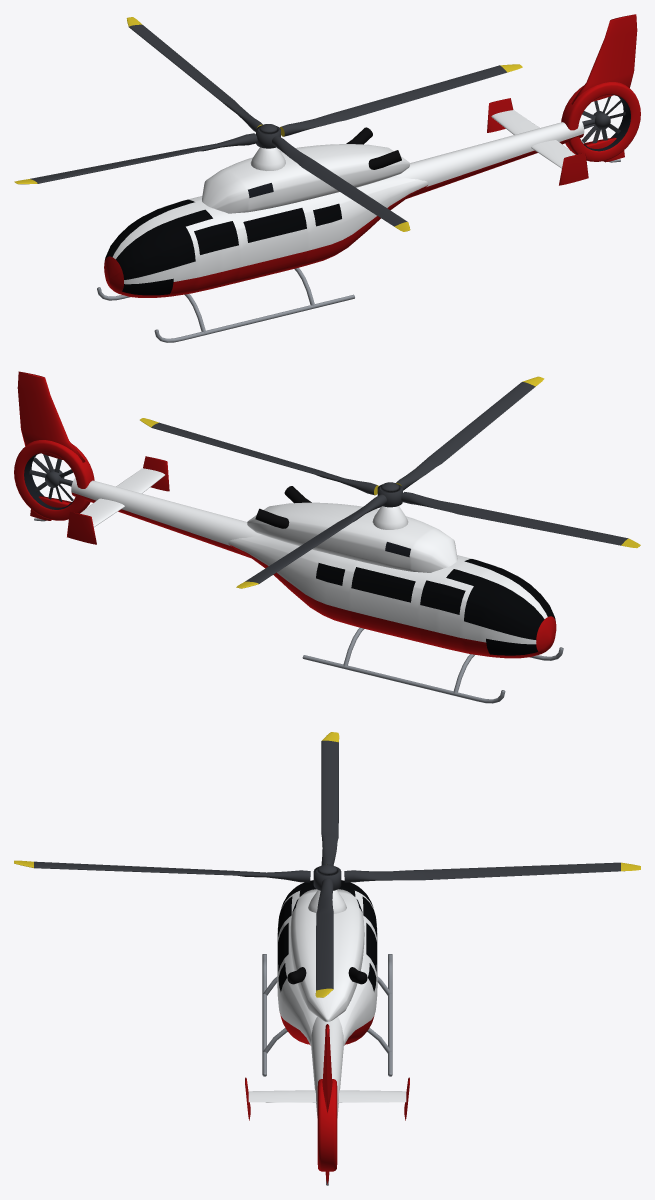
The model's file is helicopter_h145.light.glb.
3 views of the same model, one above another, from view 1: azimuth 30°, elevation 25°; view 2: azimuth 150°, elevation 25°; view 3: azimuth 270°, elevation 25° (orthographic). The views are drawn at different scales.
Parts seen in each view (by area): view 1: fuselage_pod__heli_white, fuselage_pod__glass, engine_cowling__heli_white, tail_boom__heli_white, fuselage_pod__heli_red, fin, fenestron_shroud__heli_red, main_blade_3__rotor_grey, main_blade_2__rotor_grey, main_blade_4__rotor_grey, main_blade_1__rotor_grey, horizontal_stabiliser (+6 smaller); view 2: fuselage_pod__heli_white, engine_cowling__heli_white, fuselage_pod__glass, tail_boom__heli_white, fuselage_pod__heli_red, fin, fenestron_shroud__heli_red, main_blade_1__rotor_grey, main_blade_2__rotor_grey, main_blade_3__rotor_grey, main_blade_4__rotor_grey, horizontal_stabiliser (+6 smaller); view 3: engine_cowling__heli_white, fuselage_pod__heli_white, main_blade_4__rotor_grey, main_blade_1__rotor_grey, fuselage_pod__glass, main_blade_2__rotor_grey, main_blade_3__rotor_grey, tail_boom__heli_white, fenestron_shroud__heli_red, horizontal_stabiliser.
Boxes of the visible parts, <box> form: fuselage_pod__heli_white: <box>113,176,428,284</box>; fuselage_pod__glass: <box>104,199,341,295</box>; engine_cowling__heli_white: <box>202,144,409,213</box>; tail_boom__heli_white: <box>395,119,584,186</box>; fuselage_pod__heli_red: <box>104,185,427,297</box>; fin: <box>570,14,637,104</box>; fenestron_shroud__heli_red: <box>561,82,640,161</box>; main_blade_3__rotor_grey: <box>281,65,506,136</box>; main_blade_2__rotor_grey: <box>272,136,407,226</box>; main_blade_4__rotor_grey: <box>129,24,262,131</box>; main_blade_1__rotor_grey: <box>30,133,257,183</box>; horizontal_stabiliser: <box>491,110,575,168</box>; fuselage_pod__heli_white: <box>228,535,547,644</box>; engine_cowling__heli_white: <box>247,502,457,572</box>; fuselage_pod__glass: <box>316,559,555,655</box>; tail_boom__heli_white: <box>71,477,262,546</box>; fuselage_pod__heli_red: <box>229,544,556,658</box>; fin: <box>17,371,85,462</box>; fenestron_shroud__heli_red: <box>14,440,94,520</box>; main_blade_1__rotor_grey: <box>401,492,628,545</box>; main_blade_2__rotor_grey: <box>396,382,535,490</box>; main_blade_3__rotor_grey: <box>151,422,377,495</box>; main_blade_4__rotor_grey: <box>245,494,386,583</box>; horizontal_stabiliser: <box>80,468,164,527</box>; engine_cowling__heli_white: <box>290,889,364,1021</box>; fuselage_pod__heli_white: <box>277,891,377,1045</box>; main_blade_4__rotor_grey: <box>344,862,620,882</box>; main_blade_1__rotor_grey: <box>321,740,338,865</box>; fuselage_pod__glass: <box>278,880,376,991</box>; main_blade_2__rotor_grey: <box>34,861,310,882</box>; main_blade_3__rotor_grey: <box>316,878,333,990</box>; tail_boom__heli_white: <box>311,1017,343,1117</box>; fenestron_shroud__heli_red: <box>317,1079,337,1171</box>; horizontal_stabiliser: <box>248,1090,406,1102</box>.
Bounding box in the file's own units: 13.64 × 3.95 × 10.99.
